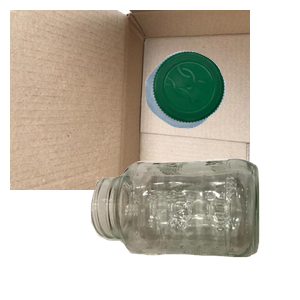cardboard: (10, 10, 250, 190)
glass: (88, 156, 300, 300)
plastic: (142, 48, 300, 169)
trash: (109, 175, 279, 300)
